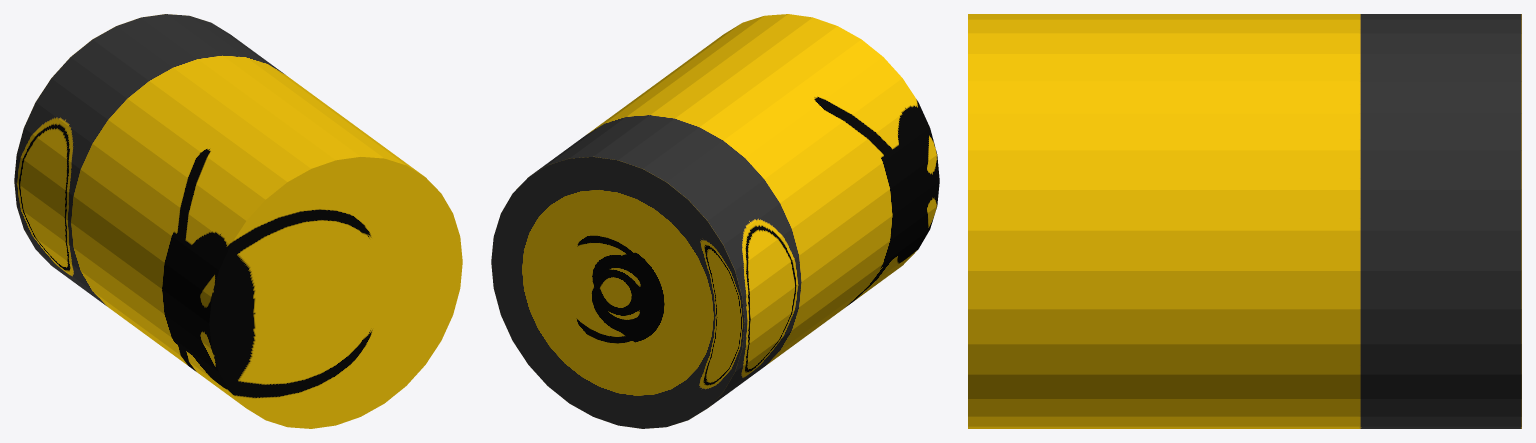
Rendered from barril_peligroso.obj.
The picture shows the model from 3 angles, left to right: view 1: azimuth 30°, elevation 25°; view 2: azimuth 150°, elevation 25°; view 3: azimuth 270°, elevation 25°; orthographic projection. The views are drawn at different scales.
Bounding box in the file's own units: 0.6 × 0.6 × 0.8.
Materials: 1 (1 with a texture image).
